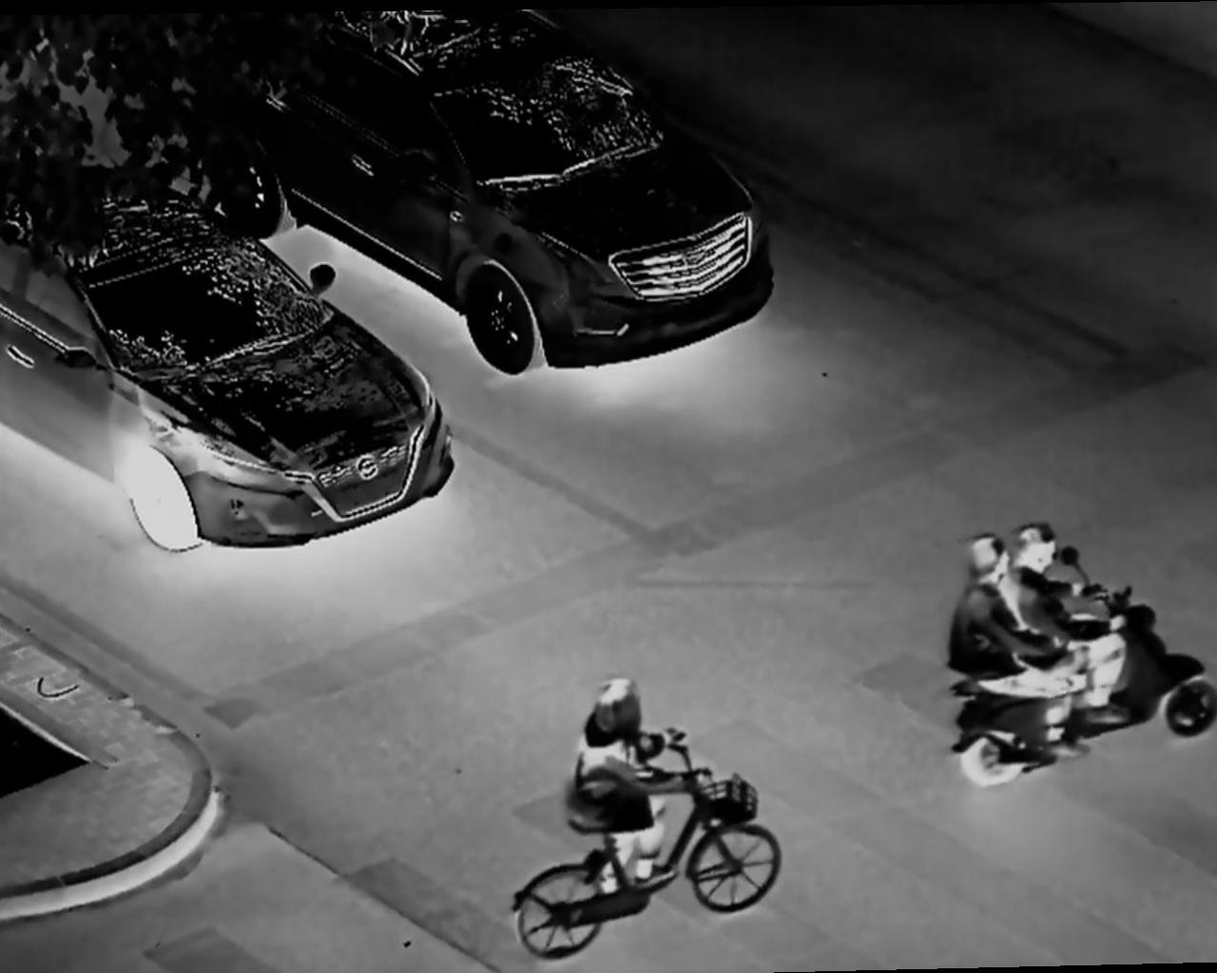person: (560, 677, 697, 926), (1002, 521, 1133, 709), (956, 534, 1010, 767)
